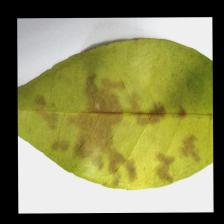black spot: (44, 78, 183, 167)
